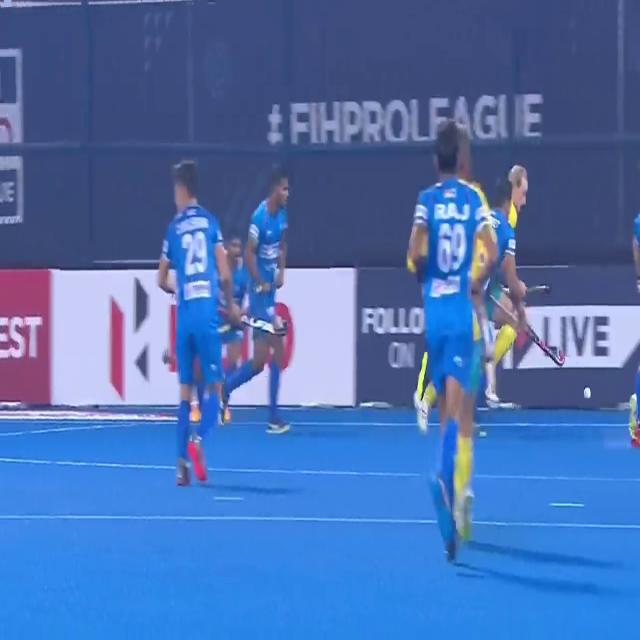ball: (578, 383, 594, 403)
